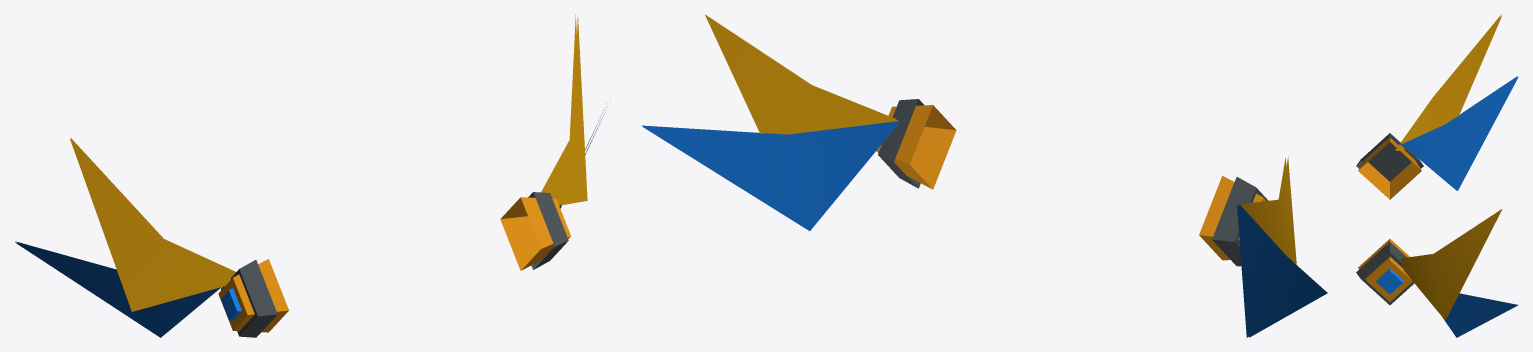
File: Headdress 05.FBX
3 views of the same model, side by side, from view 1: azimuth 30°, elevation 25°; view 2: azimuth 150°, elevation 25°; view 3: azimuth 270°, elevation 25° (orthographic). The views are drawn at different scales.
Visible parts, largest first — view 1: Headdress 05; view 2: Headdress 05; view 3: Headdress 05.
Boxes of the visible parts, bbox=[...] form: Headdress 05: bbox=[15, 14, 607, 337]; Headdress 05: bbox=[642, 14, 1327, 337]; Headdress 05: bbox=[1356, 14, 1518, 337].
Size of the model in its own units: 108 by 33.61 by 32.49.
Materials: 1 (1 with a texture image).
